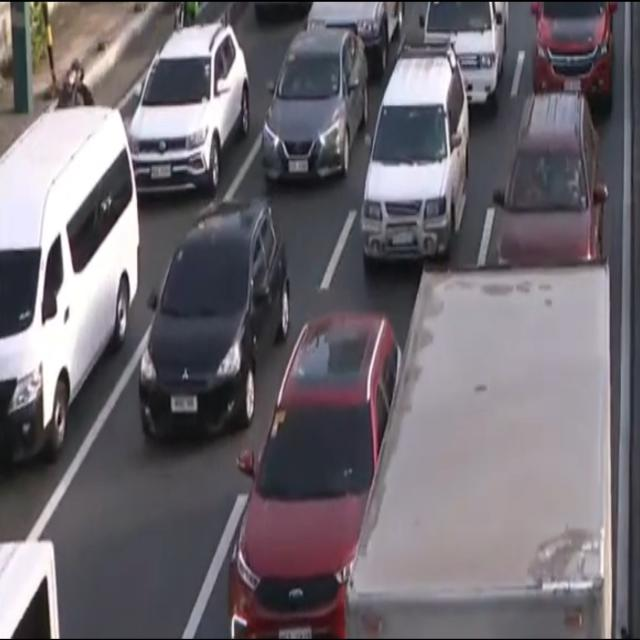SUV: (221, 298, 403, 640), (359, 30, 470, 282), (486, 88, 606, 289), (125, 18, 255, 194), (523, 0, 624, 120)
Sedan: (136, 195, 293, 466), (261, 24, 376, 196)
Truck: (334, 242, 620, 640)
Van: (0, 98, 142, 480), (415, 0, 512, 107)
